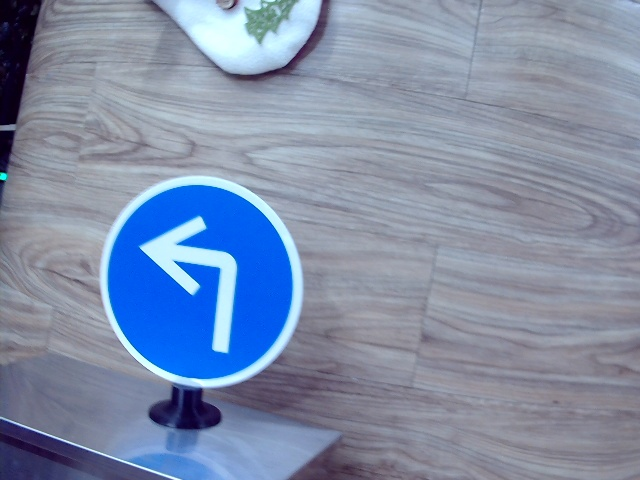turn_left: (142, 208, 237, 360)
